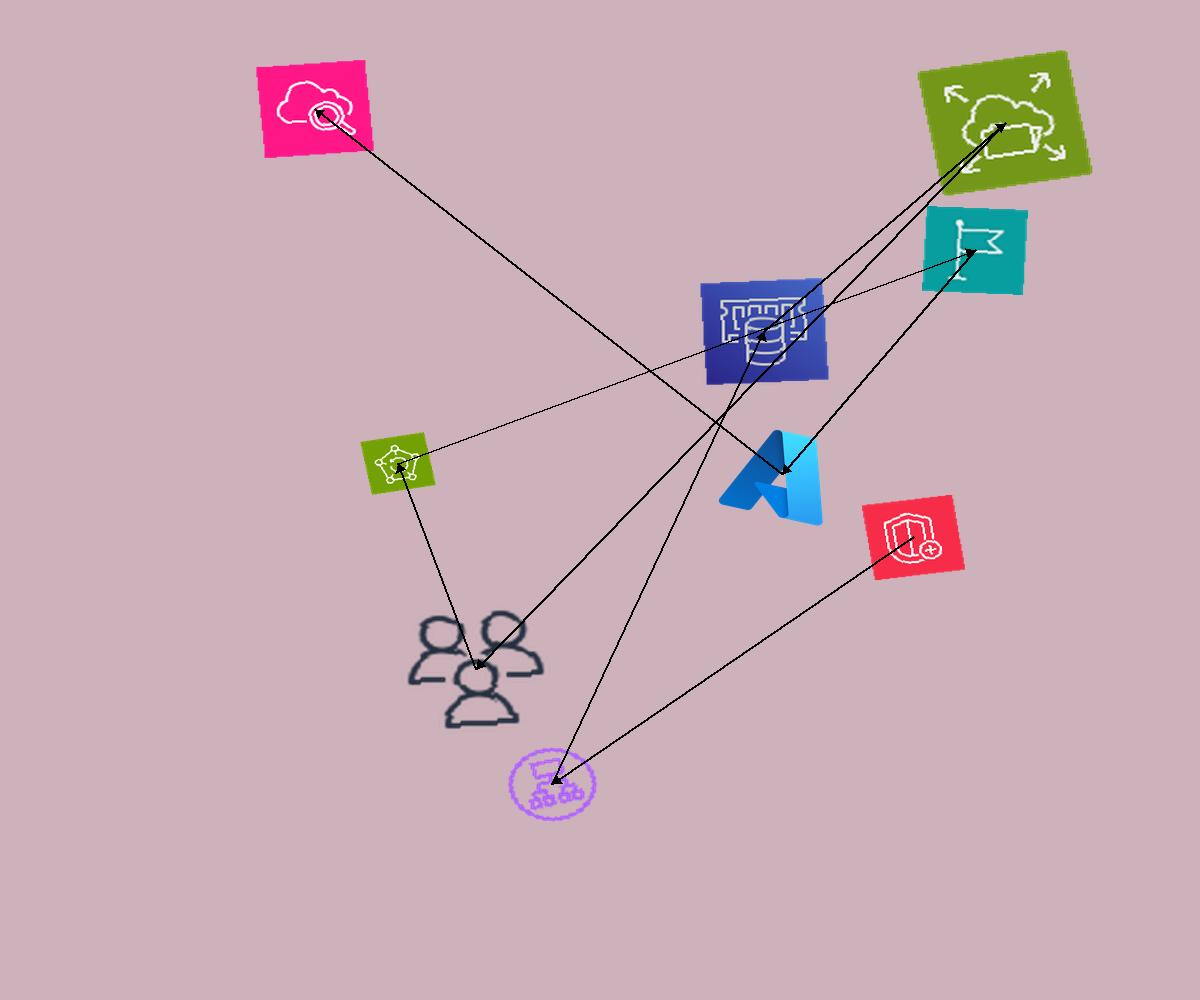AWS-Backup: (360, 432, 436, 495)
AWS-CloudWatch: (255, 59, 375, 159)
AWS-EFS: (916, 49, 1094, 197)
AWS-ElastiCache: (699, 277, 830, 386)
AWS-Region: (922, 206, 1028, 295)
AWS-Res_Elastic-Load-Balancing_Application-Load-Balancer: (493, 735, 612, 834)
AWS-Res_Users: (396, 603, 556, 736)
AWS-Shield: (861, 494, 966, 581)
Azure_services: (711, 415, 854, 534)
